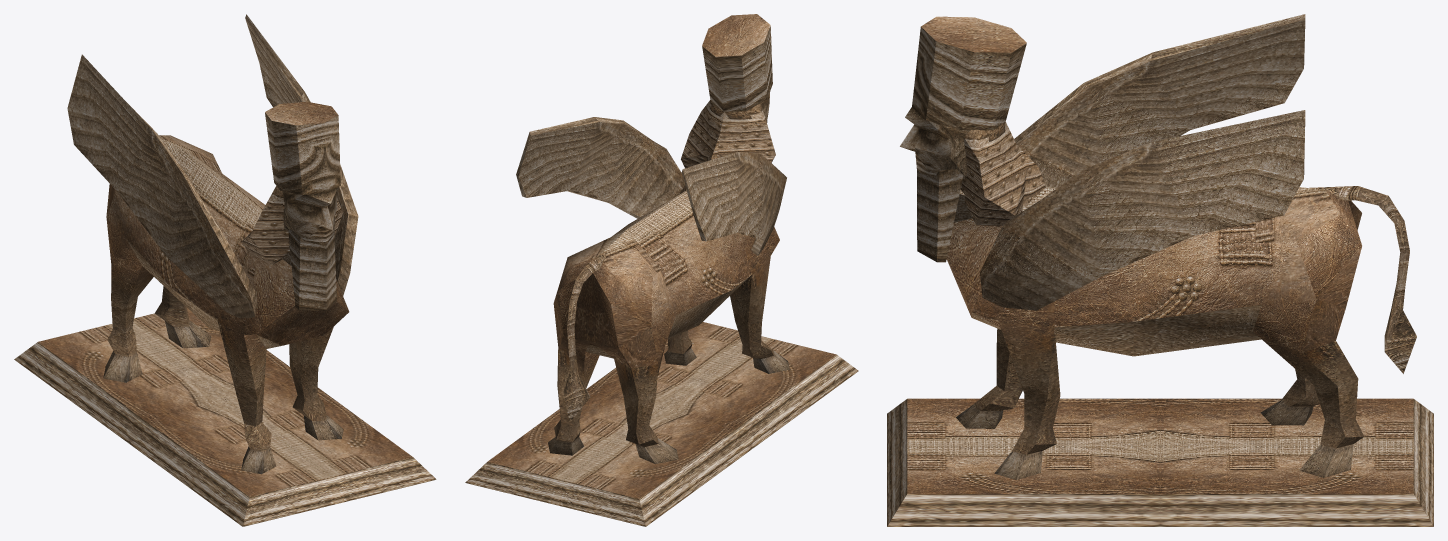
The model's file is mm9_deco_statueguardianew.glb.
3 renders of one model, left to right at view 1: azimuth 30°, elevation 25°; view 2: azimuth 150°, elevation 25°; view 3: azimuth 270°, elevation 25°, orthographic. The views are drawn at different scales.
Parts seen in each view (by area): view 1: Statueguardianew; view 2: Statueguardianew; view 3: Statueguardianew.
Boxes of the visible parts, <box> form: Statueguardianew: <box>14,14,436,526</box>; Statueguardianew: <box>465,14,858,526</box>; Statueguardianew: <box>887,14,1433,526</box>.
Size of the model in its own units: 2.08 by 3.72 by 4.16.
Materials: 2 (2 with a texture image).
